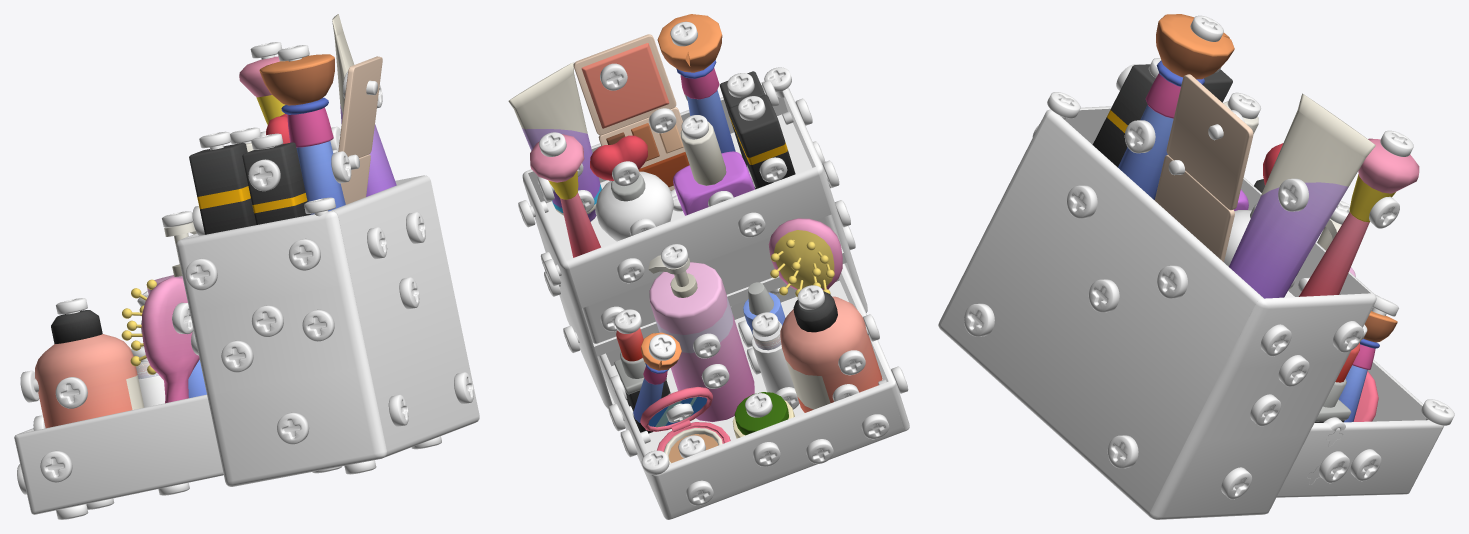
The model's file is Cosmetics.fbx.
3 renders of one model, left to right at view 1: azimuth 30°, elevation 25°; view 2: azimuth 150°, elevation 25°; view 3: azimuth 270°, elevation 25°, orthographic. The views are drawn at different scales.
Visible parts, largest first — view 1: Board_022, Board_032, Board_020, Board_029, Board_028, Board_005, Board_018, Screw (×9), Board_014, Board_008, Board_012, Board_007 (+8 smaller); view 2: Board_021, Screw (×20), Board_033, Board_006, Board_012, Board_005, Board_013, Board_011, Board_018, Board_014, Board_015, Board_038 (+25 smaller); view 3: Board_022, Board_011, Board_012, Screw (×13), Board_019, Board_031, Board_027, Board_026, Board_018, Board_009, Board_007, Screw (1) (×3) (+11 smaller).
Boxes of the visible parts, x1,y1,x2,y2 form: Board_022: (330,175,479,457); Board_032: (14,394,223,514); Board_020: (207,364,386,486); Board_029: (190,283,368,395); Board_028: (176,211,351,313); Board_005: (35,310,144,428); Board_018: (259,54,345,214); Screw (×9): (40,151,419,482); Board_014: (121,277,199,403); Board_008: (189,142,256,234); Board_012: (338,56,382,204); Board_007: (242,142,310,224); Board_021: (566,167,831,308); Screw (×20): (539,21,824,505); Board_033: (658,381,902,513); Board_006: (648,255,754,421); Board_012: (573,34,689,190); Board_005: (780,291,882,412); Board_013: (590,135,673,241); Board_011: (508,62,601,221); Board_018: (657,14,735,153); Board_014: (768,218,842,296); Board_015: (673,121,754,215); Board_038: (589,217,826,338); Board_022: (940,111,1263,516); Board_011: (1229,93,1375,298); Board_012: (1154,74,1253,262); Screw (×13): (1066,15,1413,499); Board_019: (1149,434,1307,519); Board_031: (1276,420,1443,497); Board_027: (1189,362,1344,440); Board_026: (1226,293,1376,367); Board_018: (1118,14,1234,199); Board_009: (1299,138,1419,296); Board_007: (1092,64,1155,167); Screw (1) (×3): (1157,265,1381,481).
Size of the model in its own units: 10.15 by 11.12 by 10.13.
5 materials, 2 textured.
